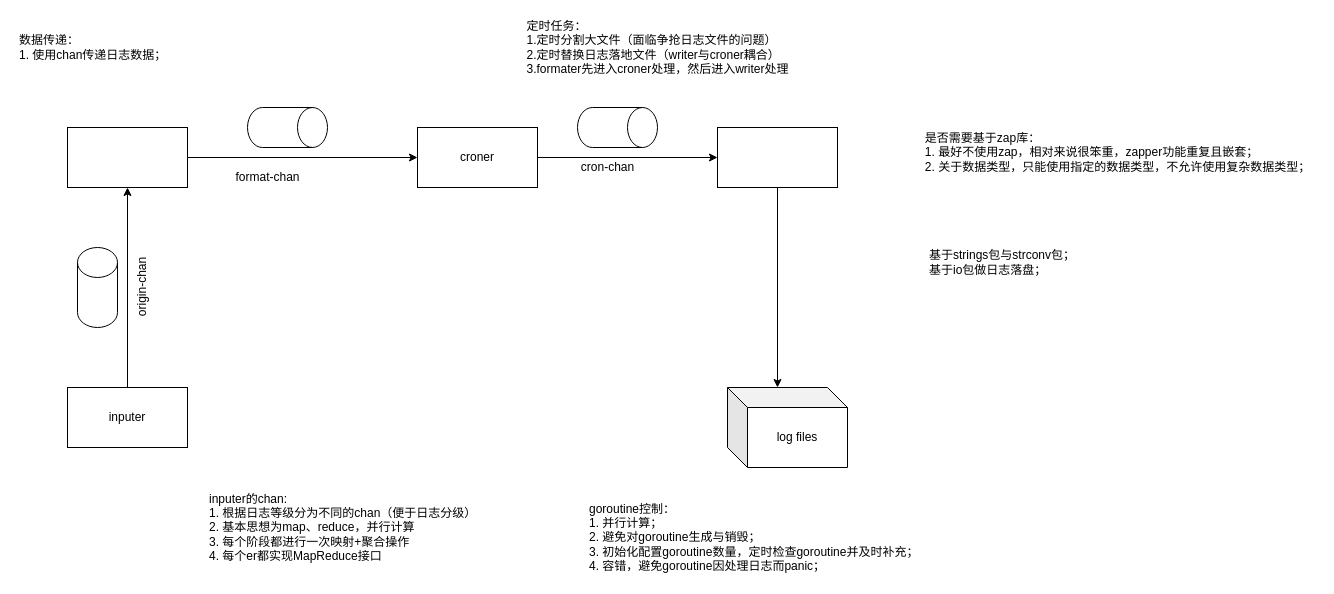
Image size: 1334x594. Some labels were removed from this diagram. Here are the shapes that lost their labels. From the top down, the centre of each, then its label:
At (x=127, y=157): "formater".
At (x=777, y=157): "writer".
